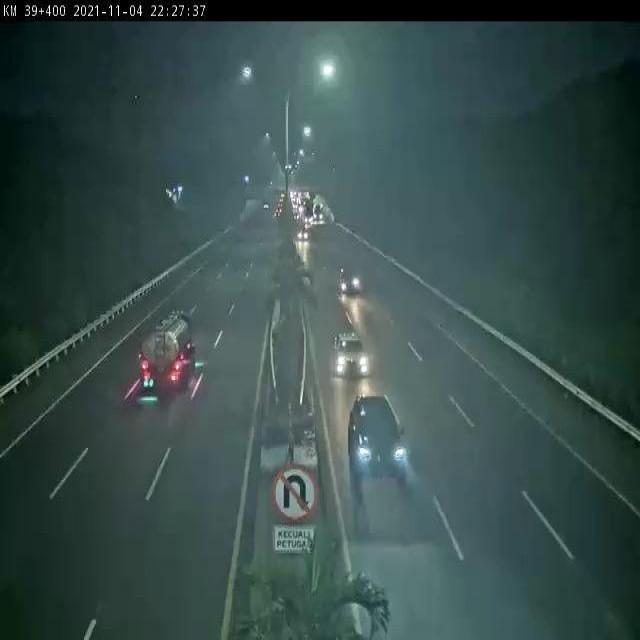car: (349, 392, 404, 476), (334, 333, 367, 376), (339, 269, 358, 296)
truck-l-: (142, 314, 193, 394)
